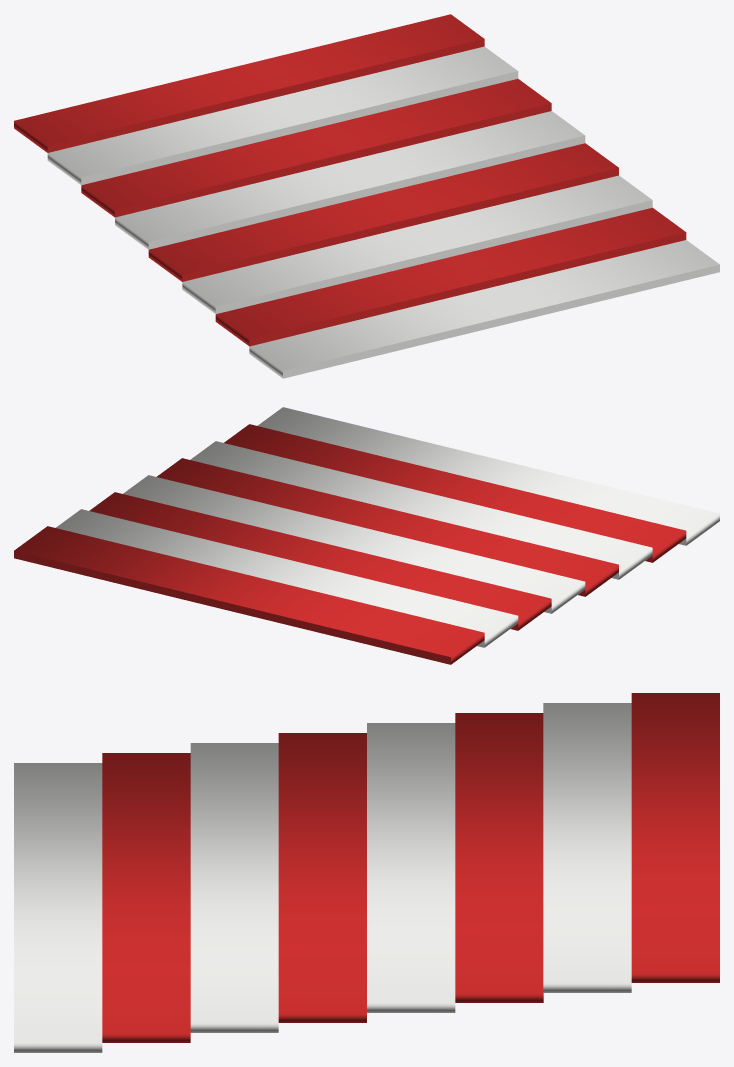
3 views of the same model, one above another, from view 1: azimuth 30°, elevation 25°; view 2: azimuth 150°, elevation 25°; view 3: azimuth 270°, elevation 25° (orthographic). The views are drawn at different scales.
Parts seen in each view (by area): view 1: XK4a_b1000, XK4a_b6000, XK4a_b00, XK4a_b7000, XK4a_b2000, XK4a_b3000, XK4a_b4000, XK4a_b5000; view 2: XK4a_b00, XK4a_b1000, XK4a_b3000, XK4a_b6000, XK4a_b4000, XK4a_b5000, XK4a_b7000, XK4a_b2000; view 3: XK4a_b00, XK4a_b1000, XK4a_b2000, XK4a_b3000, XK4a_b4000, XK4a_b5000, XK4a_b6000, XK4a_b7000.
Part boxes in pixels (left/top/right/bottom): XK4a_b1000: left=47, top=46, right=518, bottom=185; XK4a_b6000: left=215, top=207, right=686, bottom=346; XK4a_b00: left=14, top=14, right=484, bottom=152; XK4a_b7000: left=249, top=240, right=719, bottom=378; XK4a_b2000: left=81, top=79, right=551, bottom=217; XK4a_b3000: left=115, top=111, right=585, bottom=249; XK4a_b4000: left=148, top=143, right=618, bottom=281; XK4a_b5000: left=182, top=175, right=652, bottom=313; XK4a_b00: left=14, top=526, right=484, bottom=664; XK4a_b1000: left=56, top=509, right=518, bottom=647; XK4a_b3000: left=123, top=475, right=585, bottom=613; XK4a_b6000: left=224, top=424, right=686, bottom=562; XK4a_b4000: left=157, top=458, right=618, bottom=596; XK4a_b5000: left=190, top=441, right=652, bottom=579; XK4a_b7000: left=257, top=407, right=719, bottom=545; XK4a_b2000: left=89, top=492, right=551, bottom=630; XK4a_b00: left=631, top=693, right=719, bottom=982; XK4a_b1000: left=543, top=703, right=631, bottom=992; XK4a_b2000: left=455, top=713, right=543, bottom=1002; XK4a_b3000: left=367, top=723, right=455, bottom=1012; XK4a_b4000: left=278, top=733, right=366, bottom=1022; XK4a_b5000: left=190, top=743, right=278, bottom=1032; XK4a_b6000: left=102, top=753, right=190, bottom=1042; XK4a_b7000: left=14, top=763, right=102, bottom=1052.
Size of the model in its own units: 3 by 0.4 by 3.2.
